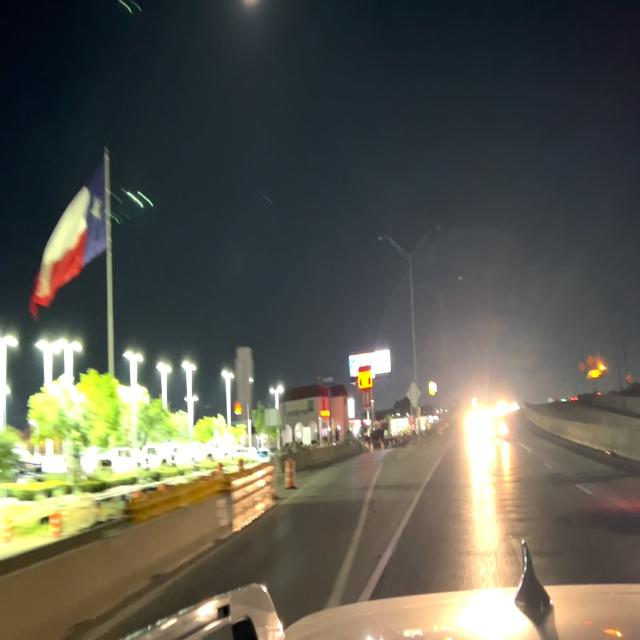back-of-sign: (405, 379, 423, 410)
